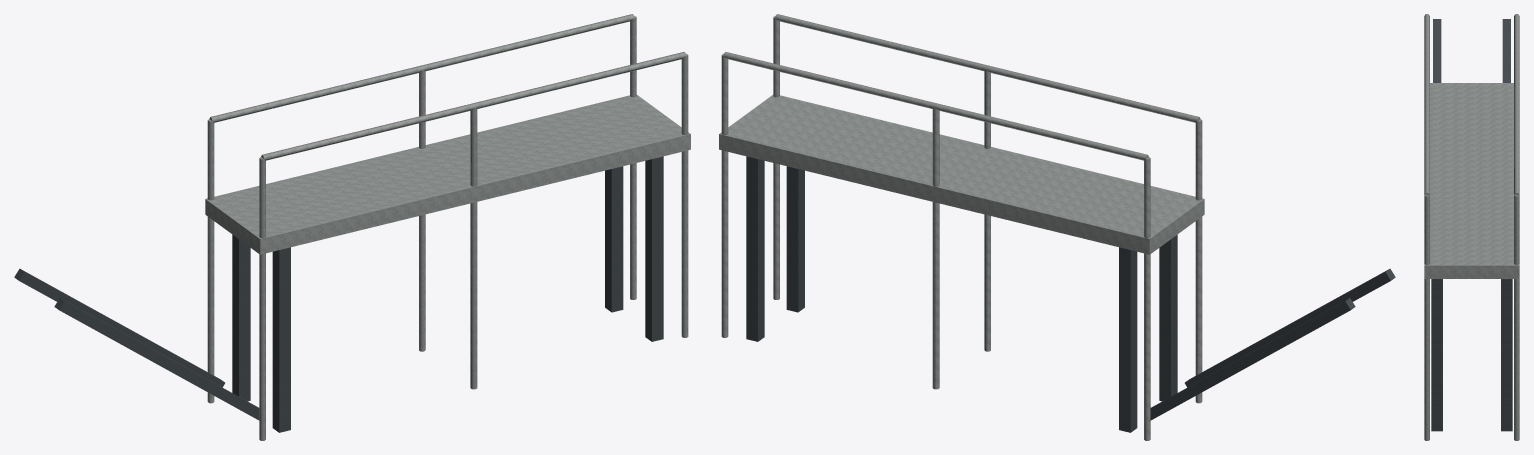
Rendered from service-industrial-catwalk.lod1.gltf.
The picture shows the model from 3 angles, left to right: view 1: azimuth 30°, elevation 25°; view 2: azimuth 150°, elevation 25°; view 3: azimuth 270°, elevation 25°; orthographic projection. The views are drawn at different scales.
Parts seen in each view (by area): view 1: service-industrial-catwalk; view 2: service-industrial-catwalk; view 3: service-industrial-catwalk.
Boxes of the visible parts, bbox=[...] form: service-industrial-catwalk: bbox=[14, 14, 690, 440]; service-industrial-catwalk: bbox=[719, 14, 1395, 440]; service-industrial-catwalk: bbox=[1424, 14, 1519, 440].
Size of the model in its own units: 7.57 by 3.28 by 1.15.
Materials: 2 (2 with a texture image).
